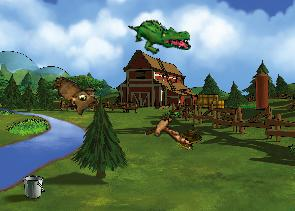crocodile: (128, 14, 192, 58)
eagle: (144, 111, 192, 149)
owl: (45, 74, 99, 119)
